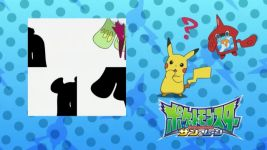pikachu: (155, 36, 214, 98)
